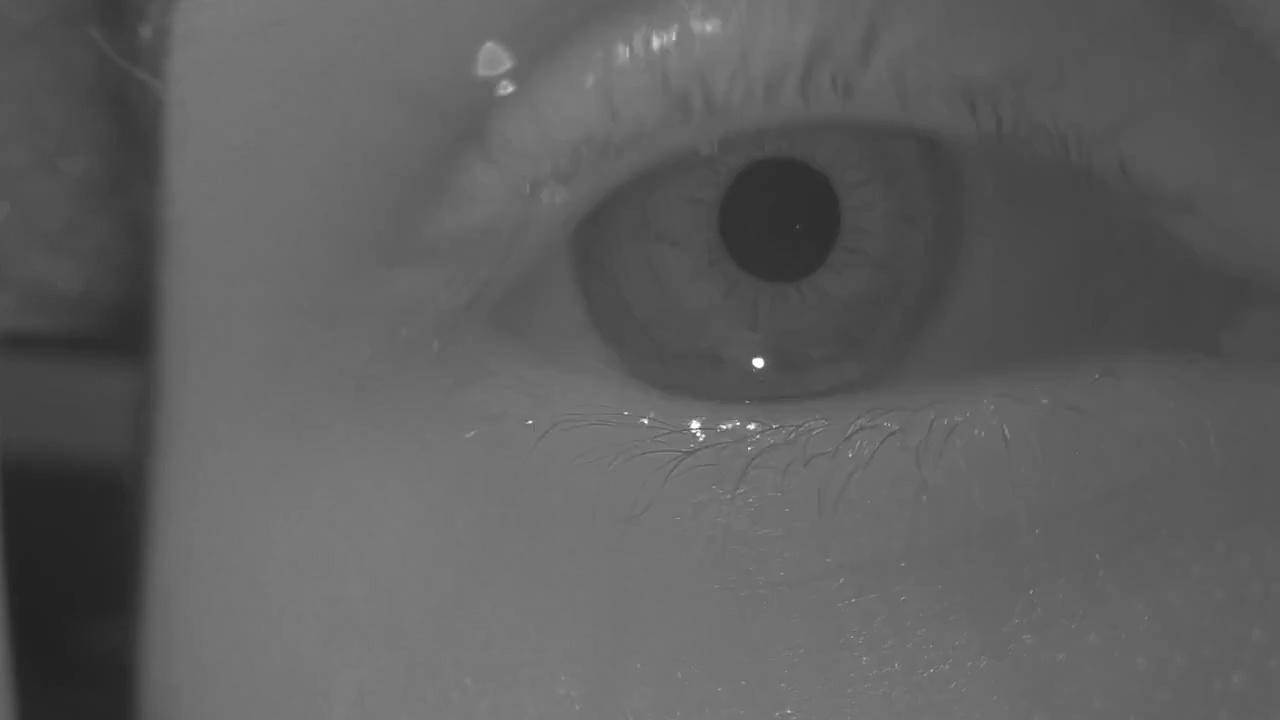pupil: (718, 158, 839, 283)
